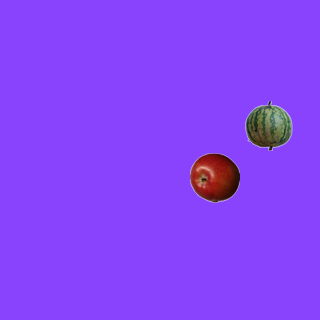Apple Braeburn: (189, 152, 239, 202)
Watermelon: (243, 100, 293, 150)
